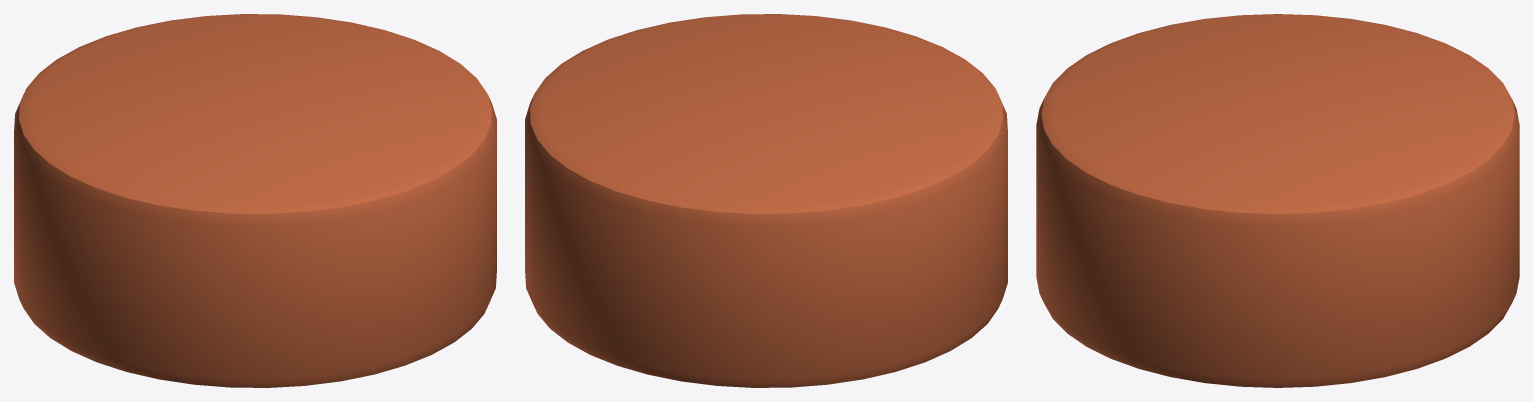
Rendered from random_orbit_sander_speed_wheel.glb.
The picture shows the model from 3 angles, left to right: view 1: azimuth 30°, elevation 25°; view 2: azimuth 150°, elevation 25°; view 3: azimuth 270°, elevation 25°; orthographic projection.
Parts seen in each view (by area): view 1: random_orbit_sander_speed_wheel; view 2: random_orbit_sander_speed_wheel; view 3: random_orbit_sander_speed_wheel.
Part boxes in pixels (box(x1,y1,x2,y2)): random_orbit_sander_speed_wheel: box(14, 14, 496, 387); random_orbit_sander_speed_wheel: box(525, 14, 1007, 387); random_orbit_sander_speed_wheel: box(1036, 14, 1519, 387).
Bounding box in the file's own units: 0.024 × 0.01 × 0.024.
